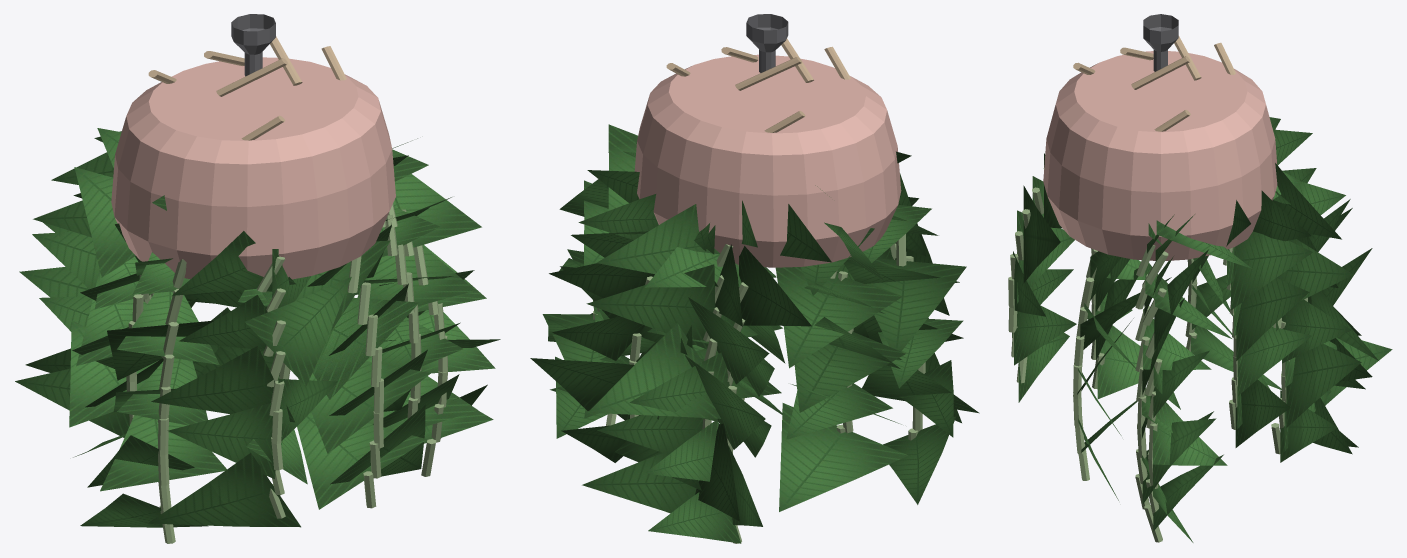
Rendered from plant_hanging.glb.
The picture shows the model from 3 angles, left to right: view 1: azimuth 30°, elevation 25°; view 2: azimuth 150°, elevation 25°; view 3: azimuth 270°, elevation 25°; orthographic projection. The views are drawn at different scales.
Parts seen in each view (by area): view 1: planthang_hd_leaf, planthang_hd_hangpot, planthang_hd_vine, planthang_hd_rope, planthang_hd_iron; view 2: planthang_hd_leaf, planthang_hd_hangpot, planthang_hd_vine, planthang_hd_rope, planthang_hd_iron; view 3: planthang_hd_leaf, planthang_hd_hangpot, planthang_hd_vine, planthang_hd_rope, planthang_hd_iron.
Boxes of the visible parts, x1,y1,x2,y2 form: planthang_hd_leaf: (15, 128, 500, 527); planthang_hd_hangpot: (111, 57, 395, 279); planthang_hd_vine: (126, 204, 447, 543); planthang_hd_rope: (148, 36, 346, 140); planthang_hd_iron: (231, 14, 275, 76); planthang_hd_leaf: (530, 124, 979, 543); planthang_hd_hangpot: (634, 54, 901, 267); planthang_hd_vine: (593, 234, 925, 543); planthang_hd_rope: (666, 38, 850, 132); planthang_hd_iron: (746, 14, 788, 72); planthang_hd_leaf: (1012, 117, 1392, 542); planthang_hd_hangpot: (1043, 51, 1277, 260); planthang_hd_vine: (1008, 168, 1307, 542); planthang_hd_rope: (1073, 36, 1235, 131); planthang_hd_iron: (1143, 14, 1178, 71).
Size of the model in its own units: 0.889 by 0.967 by 0.76.
Materials: 5 (1 with a texture image).
